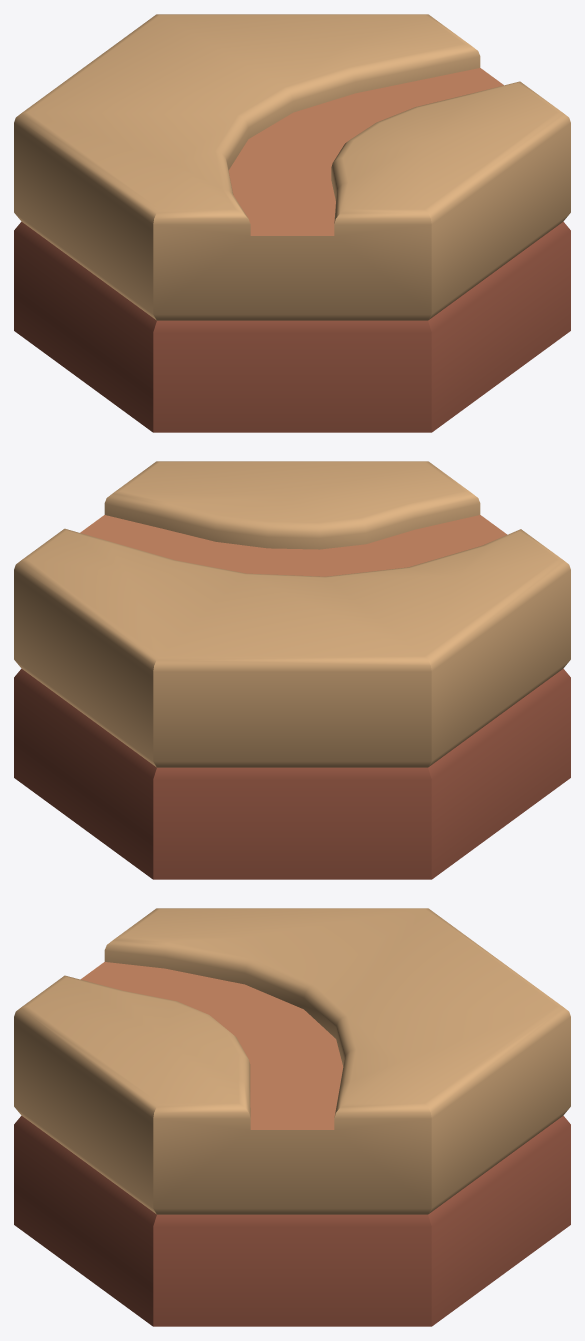
The model's file is hex_sand_roadD_detail.glb.
3 views of the same model, one above another, from view 1: azimuth 30°, elevation 25°; view 2: azimuth 150°, elevation 25°; view 3: azimuth 270°, elevation 25° (orthographic).
Parts seen in each view (by area): view 1: hex_sand_roadD_detail; view 2: hex_sand_roadD_detail; view 3: hex_sand_roadD_detail.
Boxes of the visible parts, left/top/right/bottom form: hex_sand_roadD_detail: left=14, top=14, right=570, bottom=432; hex_sand_roadD_detail: left=14, top=461, right=570, bottom=879; hex_sand_roadD_detail: left=14, top=908, right=570, bottom=1326.
Bounding box in the file's own units: 2 × 1 × 2.31.
